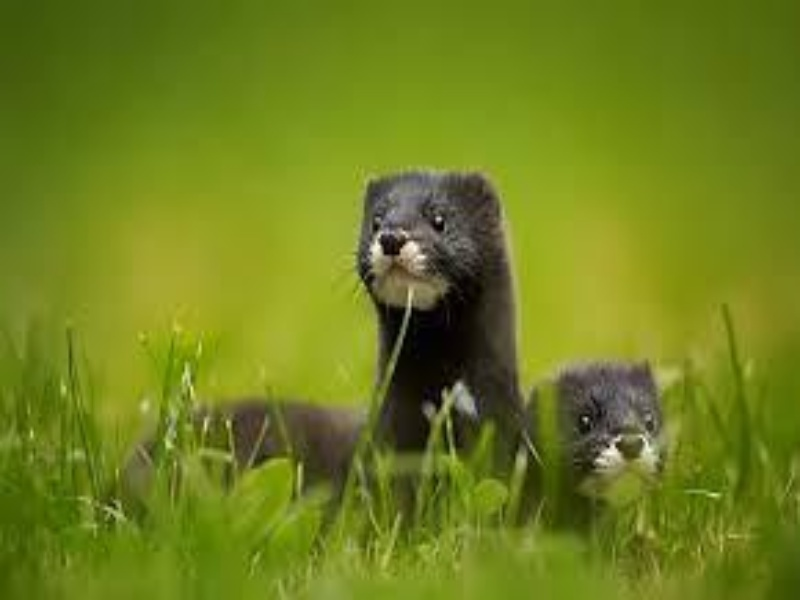minkish: (100, 165, 521, 534), (504, 356, 666, 547)
